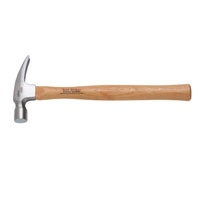hammer: (12, 54, 192, 124)
